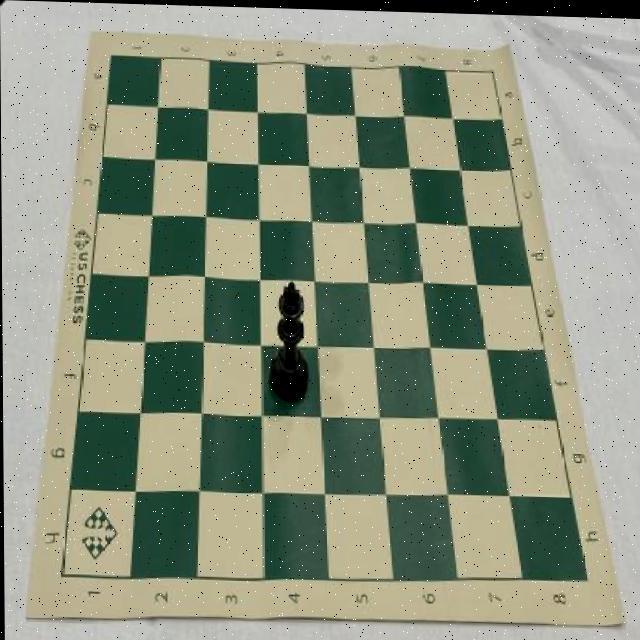black-bishop: (268, 278, 309, 401)
